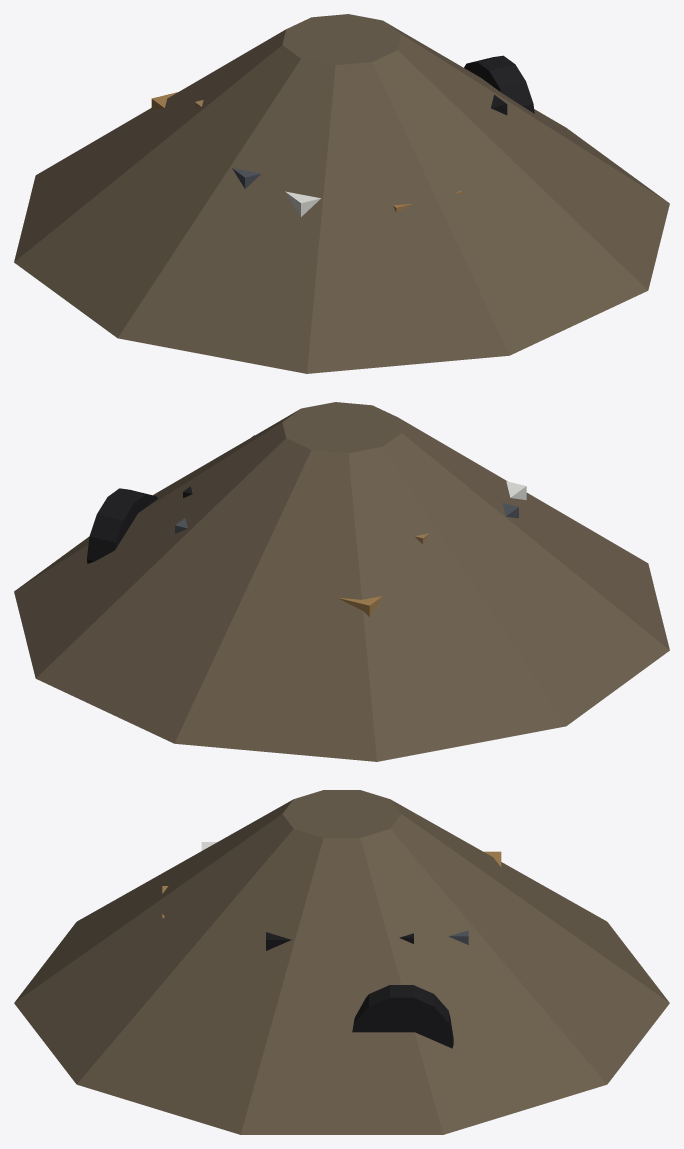
The model's file is dump pile.glb.
3 views of the same model, one above another, from view 1: azimuth 30°, elevation 25°; view 2: azimuth 150°, elevation 25°; view 3: azimuth 270°, elevation 25° (orthographic). The views are drawn at different scales.
Visible parts, largest first — view 1: dump pile; view 2: dump pile; view 3: dump pile.
Boxes of the visible parts, <box> form: dump pile: <box>14,14,669,373</box>; dump pile: <box>14,402,669,761</box>; dump pile: <box>14,790,669,1134</box>.
Bounding box in the file's own units: 4.18 × 1.4 × 4.4.
